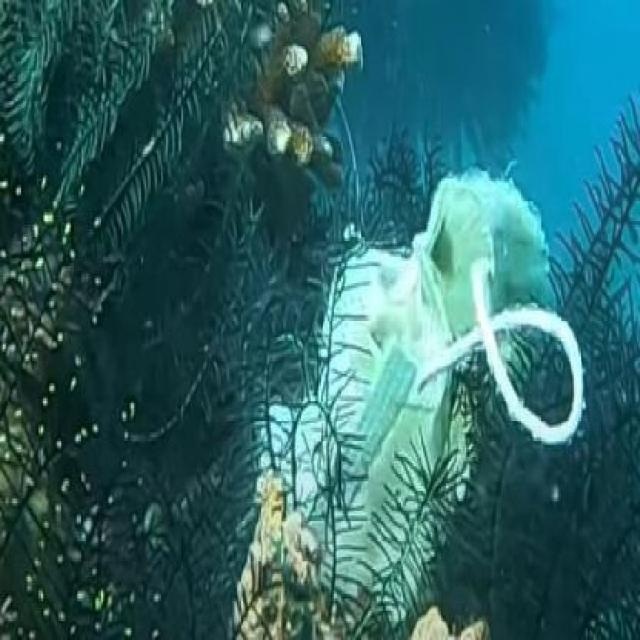Mask: (258, 166, 584, 577)
